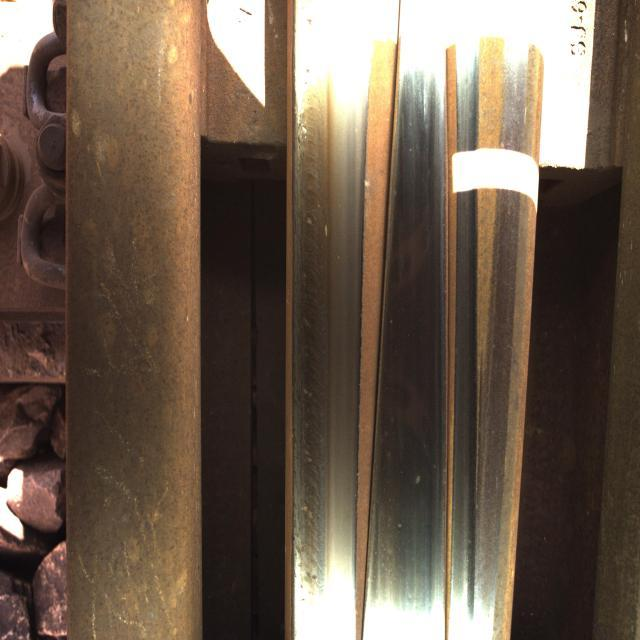scar: (382, 180, 442, 602), (296, 72, 342, 608)
